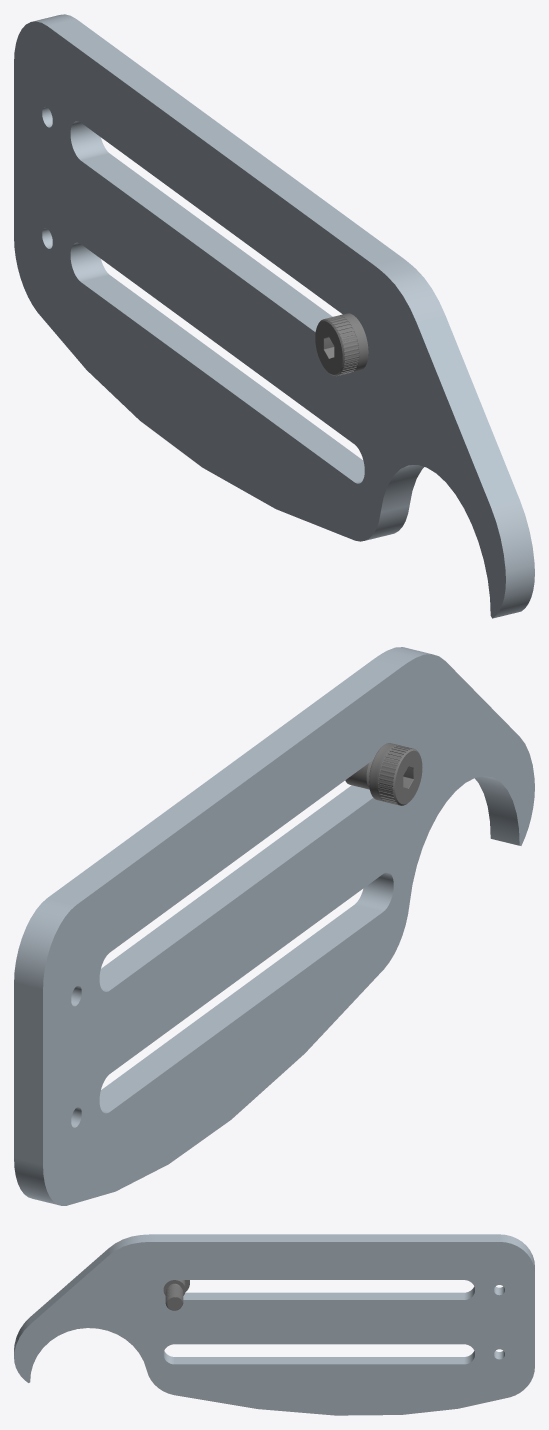
3 views of the same model, one above another, from view 1: azimuth 30°, elevation 25°; view 2: azimuth 150°, elevation 25°; view 3: azimuth 270°, elevation 25° (orthographic). The views are drawn at different scales.
Visible parts, largest first — view 1: Hook v2, 91259A574_Alloy Steel Shoulder Screw; view 2: Hook v2, 91259A574_Alloy Steel Shoulder Screw; view 3: Hook v2, 91259A574_Alloy Steel Shoulder Screw.
Boxes of the visible parts, box(x1,y1,x2,y2) form: Hook v2: box(14, 14, 534, 618); 91259A574_Alloy Steel Shoulder Screw: box(315, 313, 368, 376); Hook v2: box(14, 647, 534, 1205); 91259A574_Alloy Steel Shoulder Screw: box(345, 743, 422, 805); Hook v2: box(14, 1234, 534, 1415); 91259A574_Alloy Steel Shoulder Screw: box(163, 1280, 189, 1310).
Bounding box in the file's own units: 0.023 × 0.0686 × 0.1865.
